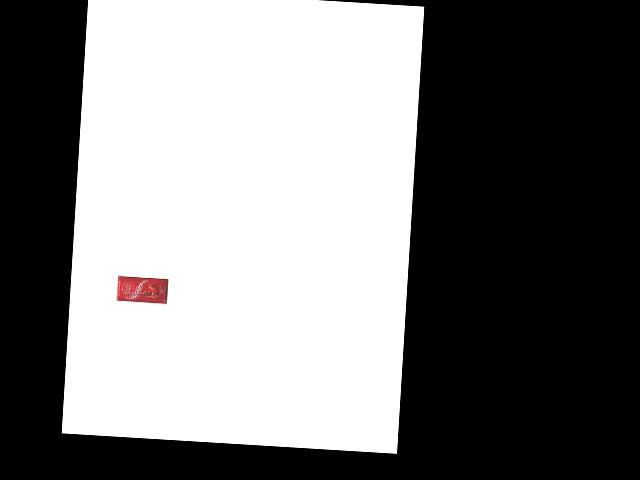chocolate: (115, 275, 172, 305)
